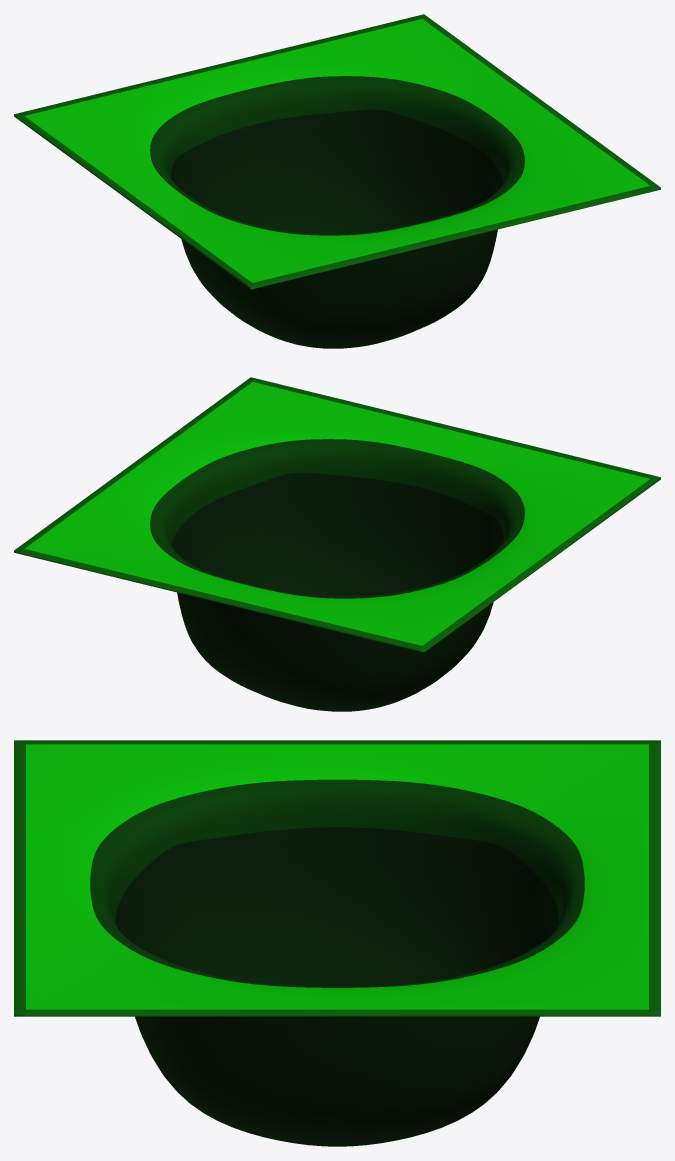
File: Hoyo 1.fbx
3 renders of one model, top to bottom at view 1: azimuth 30°, elevation 25°; view 2: azimuth 150°, elevation 25°; view 3: azimuth 270°, elevation 25°, orthographic. The views are drawn at different scales.
Parts seen in each view (by area): view 1: pasted__pCube3; view 2: pasted__pCube3; view 3: pasted__pCube3.
Boxes of the visible parts, box(x1,y1,x2,y2) form: pasted__pCube3: box(14, 14, 660, 348); pasted__pCube3: box(14, 377, 660, 711); pasted__pCube3: box(14, 740, 660, 1146).
Bounding box in the file's own units: 200 × 85.82 × 200.
